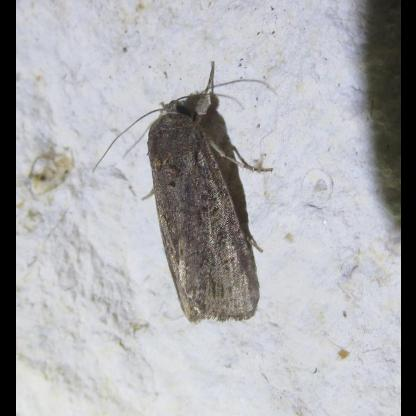Fall Armyworm Moth: (88, 58, 276, 328)
